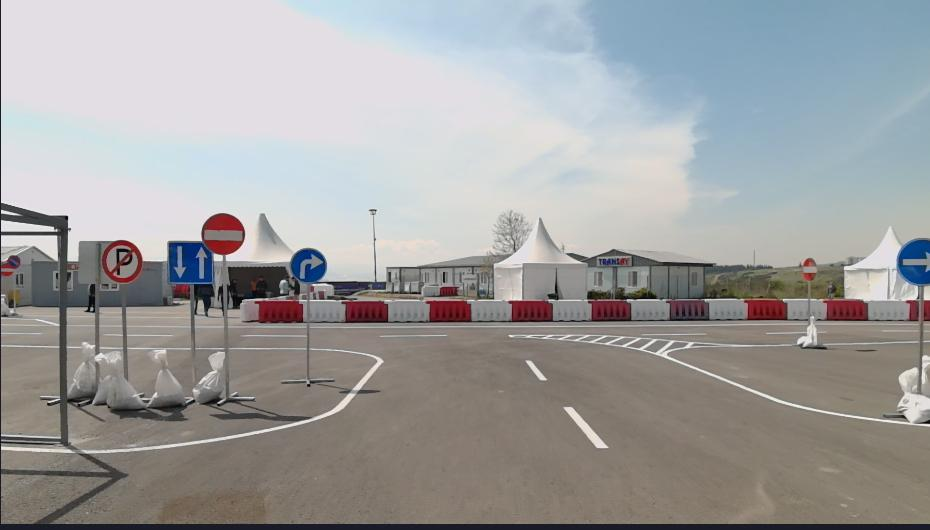nesne: (0, 323, 929, 528), (0, 329, 654, 521), (445, 331, 926, 530), (0, 343, 385, 452), (504, 330, 929, 426), (237, 297, 928, 323), (312, 320, 803, 330), (92, 352, 145, 412), (147, 345, 190, 405), (183, 352, 226, 406), (897, 354, 928, 421), (560, 404, 607, 448), (167, 239, 212, 283), (201, 212, 245, 256), (101, 239, 142, 282), (69, 339, 97, 400), (896, 236, 928, 285), (288, 247, 325, 284), (795, 313, 825, 347), (302, 298, 344, 322), (588, 298, 631, 321), (343, 301, 387, 323), (429, 299, 470, 322), (510, 299, 551, 322), (258, 299, 301, 320), (630, 297, 669, 320), (748, 297, 787, 320), (388, 300, 428, 322), (471, 299, 511, 321), (667, 298, 707, 319), (825, 300, 867, 320), (867, 299, 909, 319), (551, 300, 590, 321), (708, 297, 745, 319), (804, 298, 826, 321), (525, 358, 548, 380), (198, 285, 213, 315), (785, 297, 806, 318), (908, 298, 928, 320), (800, 257, 818, 281), (83, 282, 96, 315), (239, 331, 306, 337), (241, 299, 258, 321), (275, 274, 292, 296), (380, 332, 449, 337), (765, 329, 804, 335), (291, 275, 301, 297), (635, 331, 706, 334), (6, 254, 21, 268), (0, 264, 12, 276)
